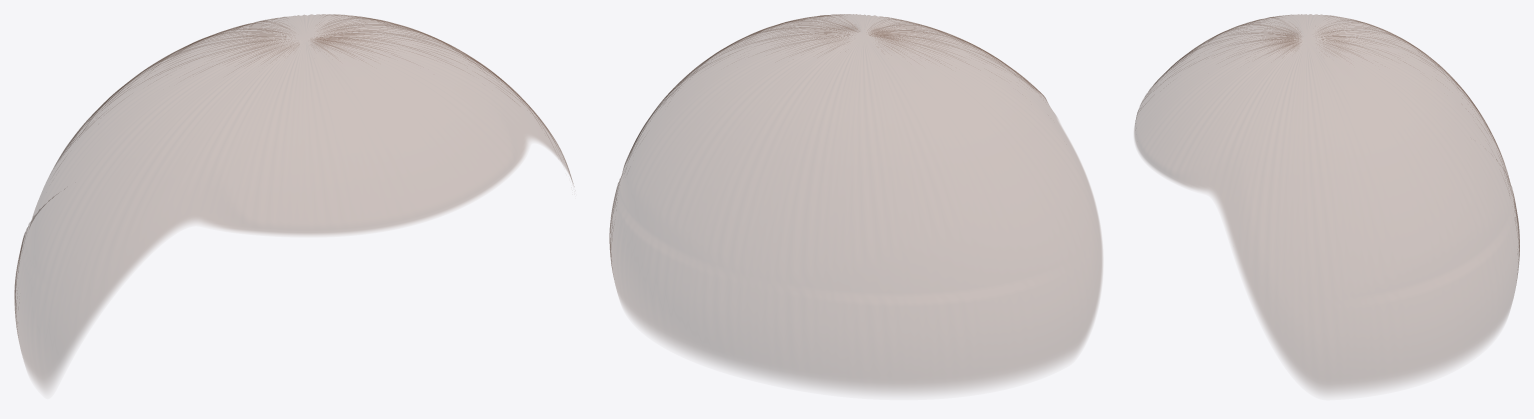
File: Ombre-c23de5bf589b253-hair.glb
The picture shows the model from 3 angles, left to right: view 1: azimuth 30°, elevation 25°; view 2: azimuth 150°, elevation 25°; view 3: azimuth 270°, elevation 25°; orthographic projection. The views are drawn at different scales.
Parts seen in each view (by area): view 1: 226 hair / Hair252 / buzz edge.001; view 2: 226 hair / Hair252 / buzz edge.001; view 3: 226 hair / Hair252 / buzz edge.001.
Part boxes in pixels (box(x1,y1,x2,y2)): 226 hair / Hair252 / buzz edge.001: box(14, 14, 573, 389); 226 hair / Hair252 / buzz edge.001: box(609, 14, 1102, 392); 226 hair / Hair252 / buzz edge.001: box(1134, 14, 1519, 392).
Size of the model in its own units: 0.9886 by 0.5747 by 0.761.
Materials: 1 (1 with a texture image).
